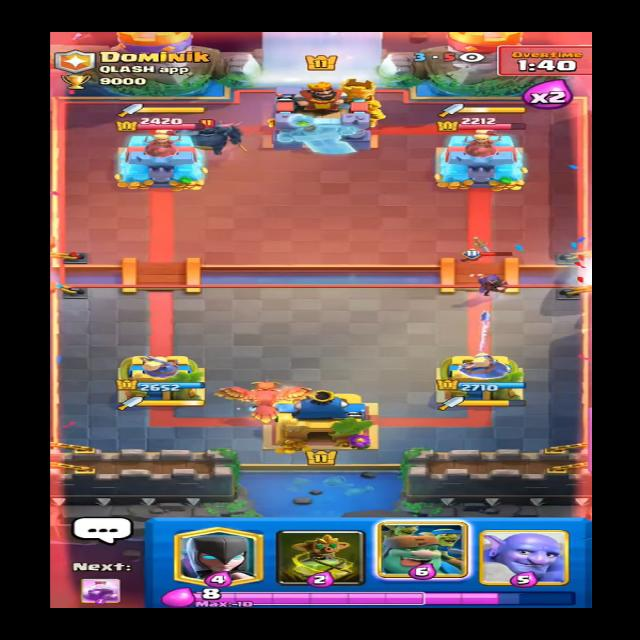evo-wizard: (460, 244, 521, 295)
pekka: (172, 112, 255, 158)
